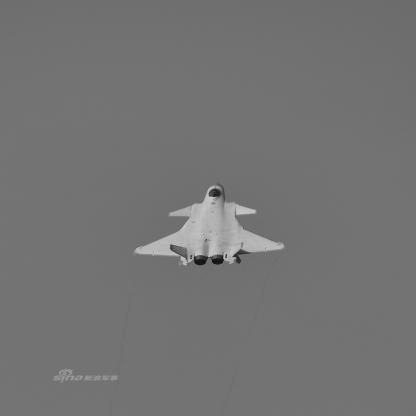J20: (134, 183, 286, 267)
